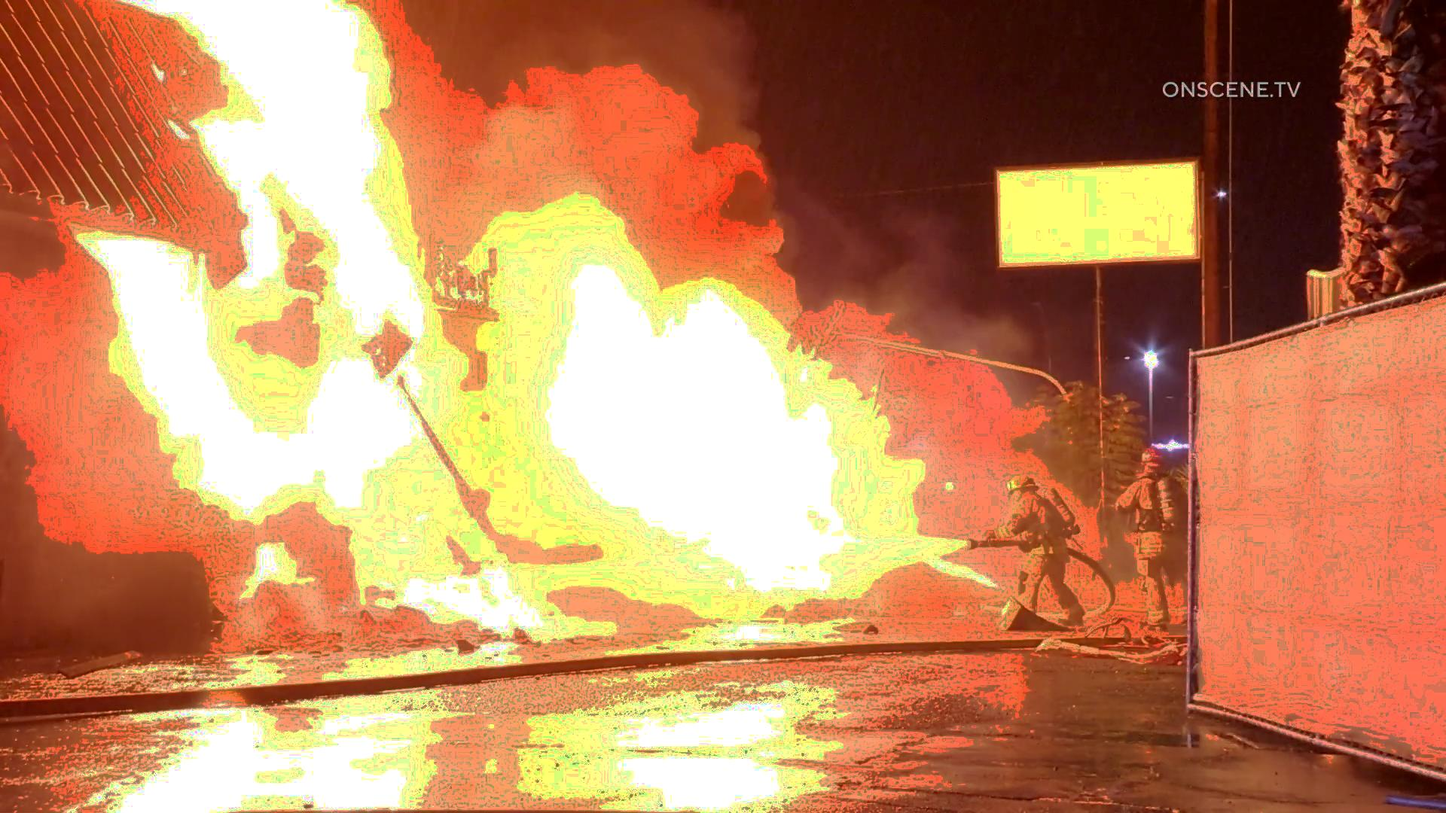fire: (119, 294, 924, 622), (224, 25, 439, 621)
smoke: (546, 32, 798, 145)
